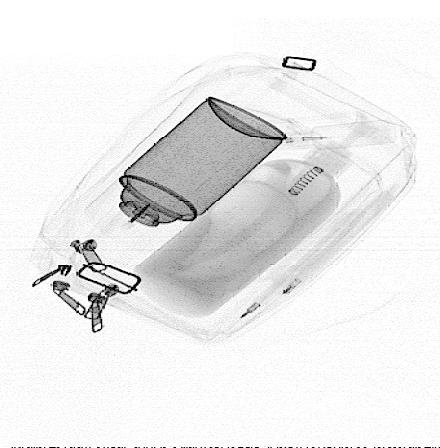Sprayer: (80, 95, 291, 259)
